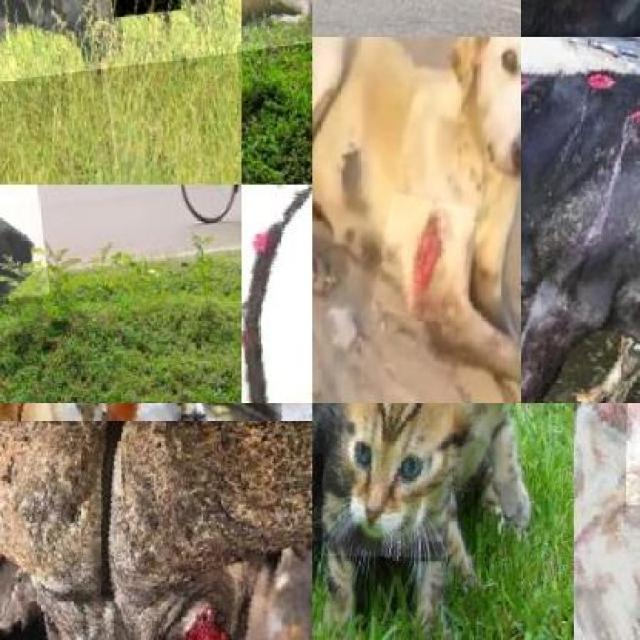buffalo: (0, 420, 312, 640), (0, 0, 242, 88)
cat: (320, 403, 454, 557), (312, 403, 356, 454)
cow: (520, 37, 640, 403), (574, 403, 640, 640), (0, 185, 49, 312), (241, 0, 312, 55)
dog: (312, 37, 520, 403)
injured: (140, 535, 274, 640), (370, 192, 473, 325), (572, 86, 622, 156), (520, 59, 560, 128), (94, 0, 180, 17)
